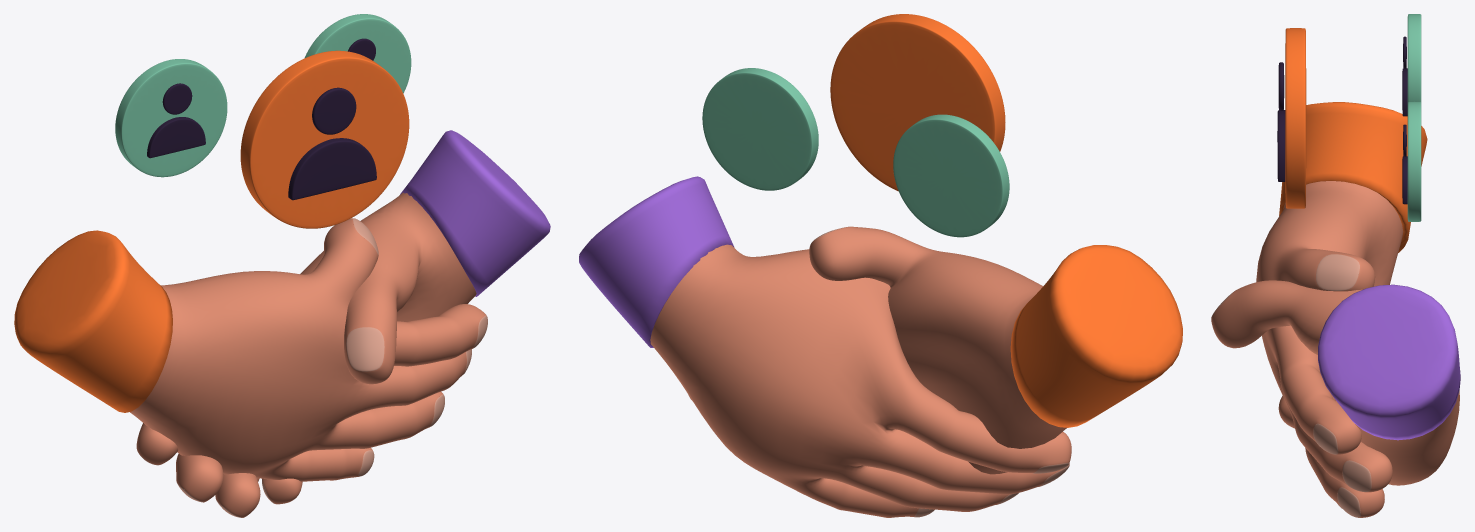
File: customer-relationship-3d-animated-icon-885227043983.glb
The picture shows the model from 3 angles, left to right: view 1: azimuth 30°, elevation 25°; view 2: azimuth 150°, elevation 25°; view 3: azimuth 270°, elevation 25°; orthographic projection. The views are drawn at different scales.
Visible parts, largest first — view 1: Vert.004, Vert.003, Cylinder.002, Cylinder.004, Cylinder.006; view 2: Vert.003, Vert.004, Cylinder.002, Cylinder.004, Cylinder.006; view 3: Vert.004, Vert.003, Cylinder.002, Cylinder.006, Cylinder.004.
Part boxes in pixels (<box>): Vert.004: <box>14,218,487,481</box>; Vert.003: <box>136,130,550,517</box>; Cylinder.002: <box>240,50,409,228</box>; Cylinder.004: <box>115,59,227,177</box>; Cylinder.006: <box>304,14,411,93</box>; Vert.003: <box>579,176,1071,517</box>; Vert.004: <box>688,226,1182,474</box>; Cylinder.002: <box>830,14,1005,191</box>; Cylinder.004: <box>893,114,1009,237</box>; Cylinder.006: <box>702,68,818,190</box>; Vert.004: <box>1256,102,1427,517</box>; Vert.003: <box>1211,280,1460,485</box>; Cylinder.002: <box>1277,28,1306,208</box>; Cylinder.006: <box>1402,101,1421,221</box>; Cylinder.004: <box>1402,14,1421,116</box>.
Bounding box in the file's own units: 1.75 × 1.43 × 0.723.
